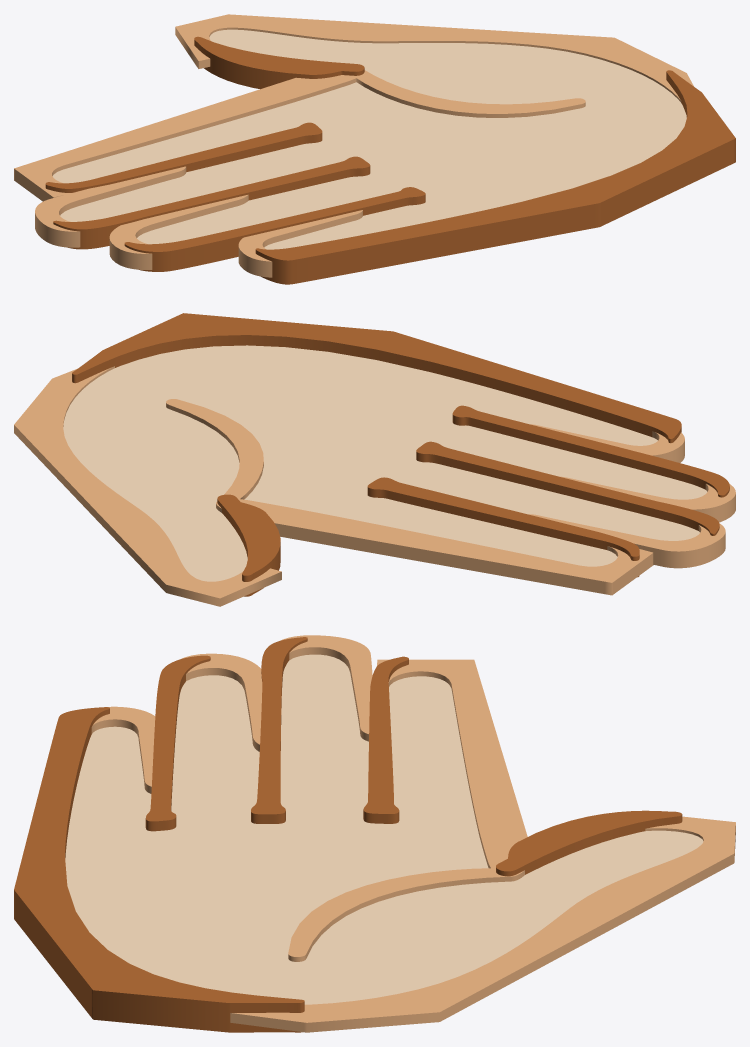
File: emoji_u1faf2_1f3fb.glb
3 views of the same model, one above another, from view 1: azimuth 30°, elevation 25°; view 2: azimuth 150°, elevation 25°; view 3: azimuth 270°, elevation 25° (orthographic). The views are drawn at different scales.
Parts seen in each view (by area): view 1: emoji_u1faf2_1f3fb; view 2: emoji_u1faf2_1f3fb; view 3: emoji_u1faf2_1f3fb.
Part boxes in pixels (x1,y1,x2,y2): emoji_u1faf2_1f3fb: (14,14,735,284); emoji_u1faf2_1f3fb: (14,313,735,606); emoji_u1faf2_1f3fb: (14,635,735,1032).
Bounding box in the file's own units: 0.0334 × 0.0012 × 0.0267.
